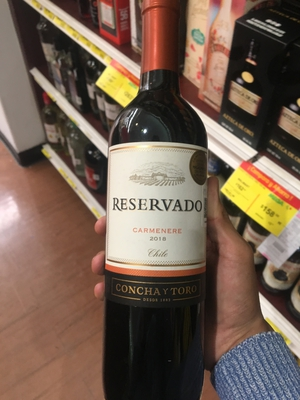reservado carmenere: (100, 12, 226, 397)
